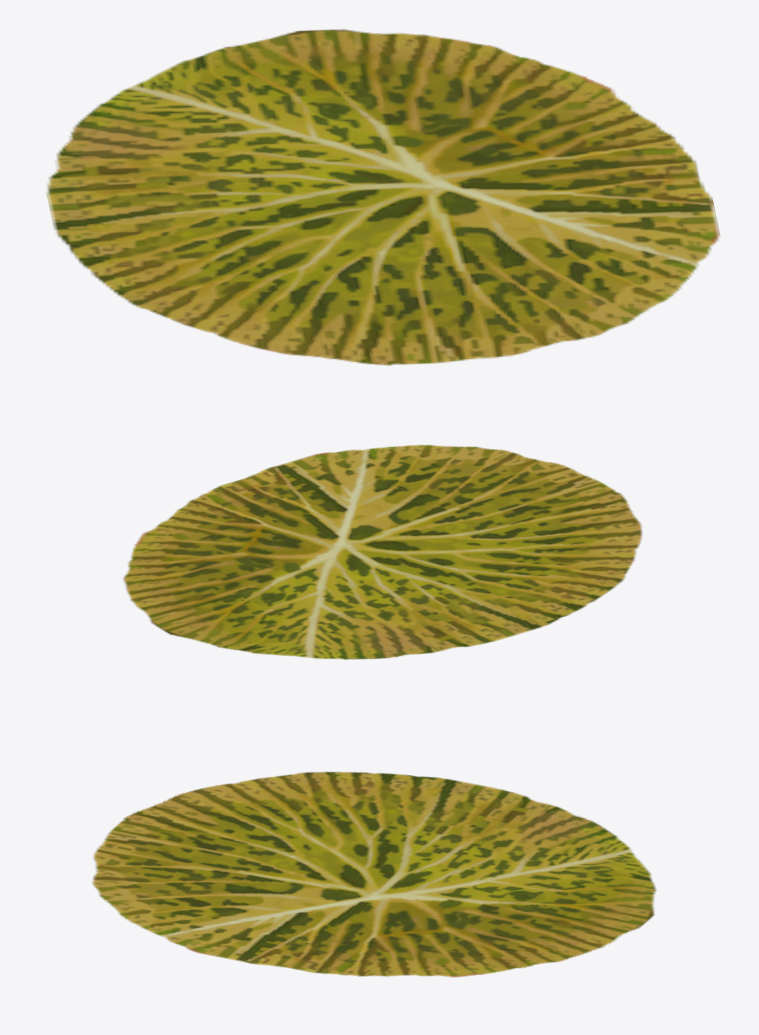
File: GH_1_Lily_3.gltf
3 views of the same model, one above another, from view 1: azimuth 30°, elevation 25°; view 2: azimuth 150°, elevation 25°; view 3: azimuth 270°, elevation 25° (orthographic). The views are drawn at different scales.
Visible parts, largest first — view 1: GH_1_Lily_3; view 2: GH_1_Lily_3; view 3: GH_1_Lily_3.
Boxes of the visible parts, x1,y1,x2,y2 form: GH_1_Lily_3: (46,29,720,365); GH_1_Lily_3: (123,445,642,659); GH_1_Lily_3: (92,771,656,977).
Bounding box in the file's own units: 1.96 × 0 × 2.1.
1 material, 1 textured.
